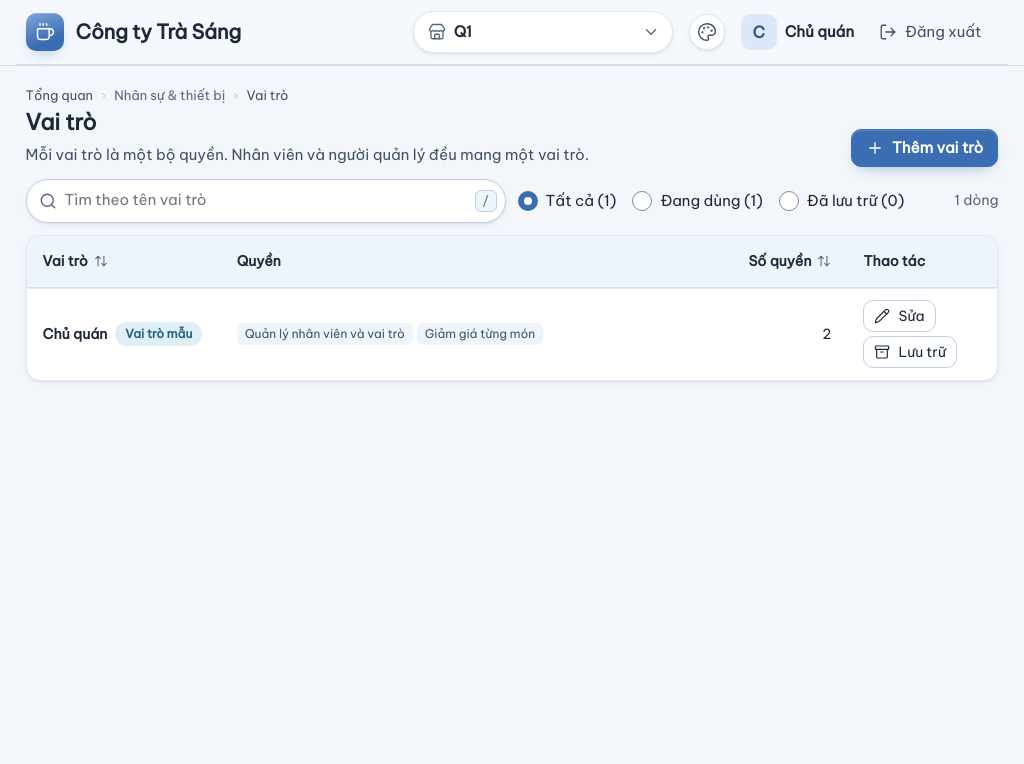
Test case: editing a role › shows why the API refused to take away the last administrator's key
Expected: the dropdown named "Chi nhánh đang xem" is shown, x1=413 y1=11 x2=673 y2=53
Click the button "Sửa": {"x": 900, "y": 316} x1=863 y1=300 x2=936 y2=332
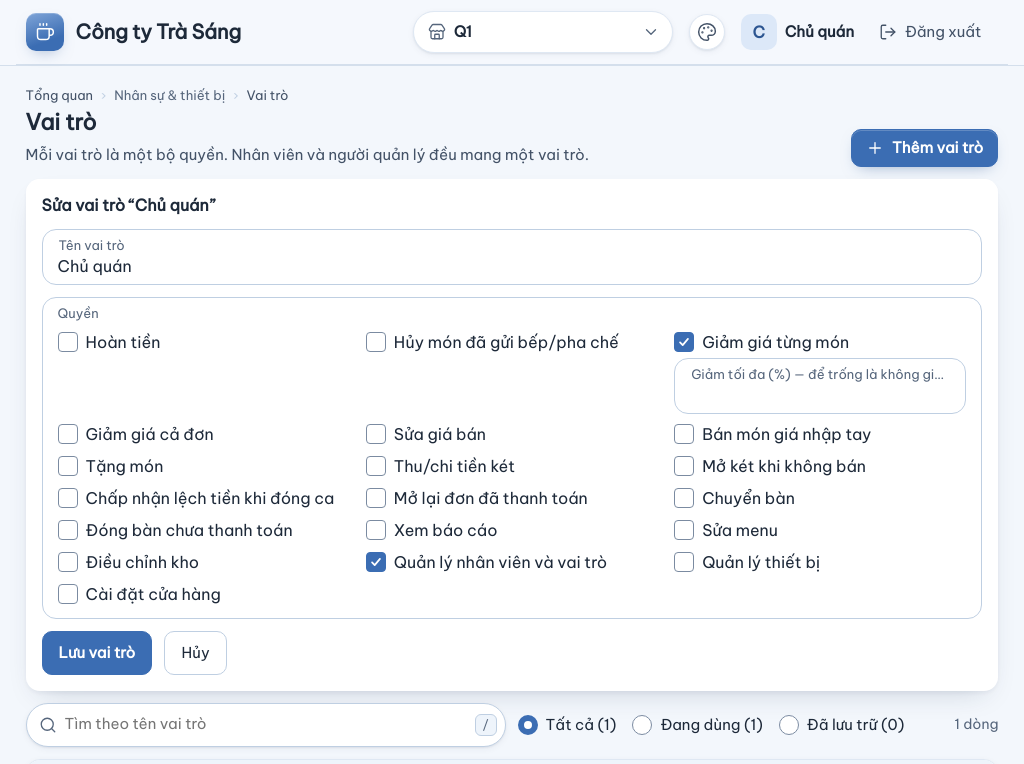
Click the checkbox labelled "Quản lý nhân viên và vai trò": {"x": 376, "y": 562} x1=366 y1=552 x2=386 y2=572
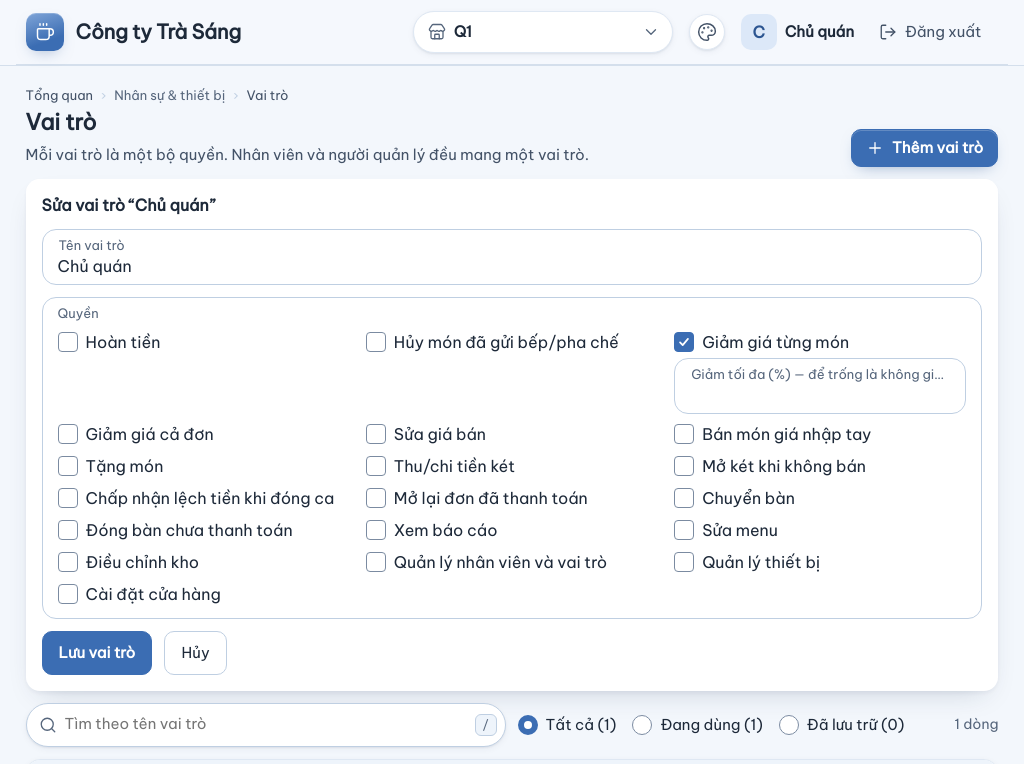
Click the button "Lưu vai trò": {"x": 97, "y": 652} x1=42 y1=630 x2=152 y2=674
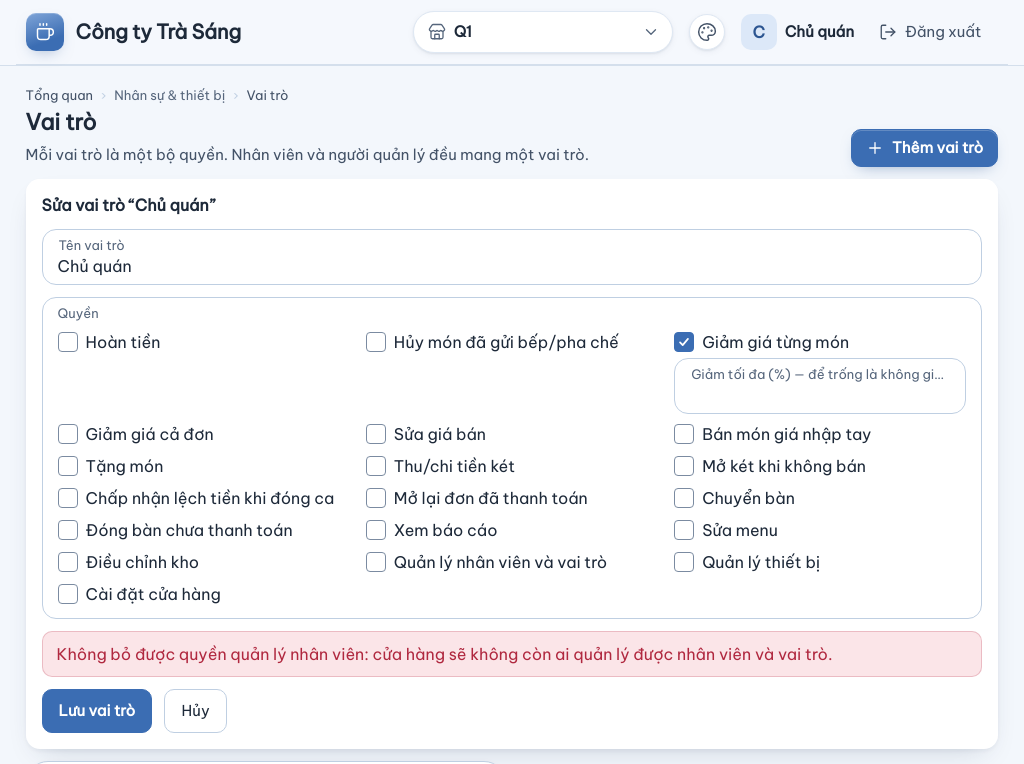
Now the message shows "Không bỏ được quyền quản lý nhân viên: cửa hàng sẽ không còn ai quản lý được nhân viên và vai trò.", box x1=57 y1=644 x2=832 y2=664
